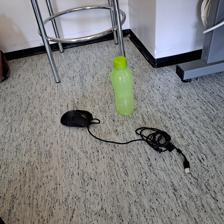bottle: (108, 55, 136, 116)
mouse: (59, 108, 93, 128)
